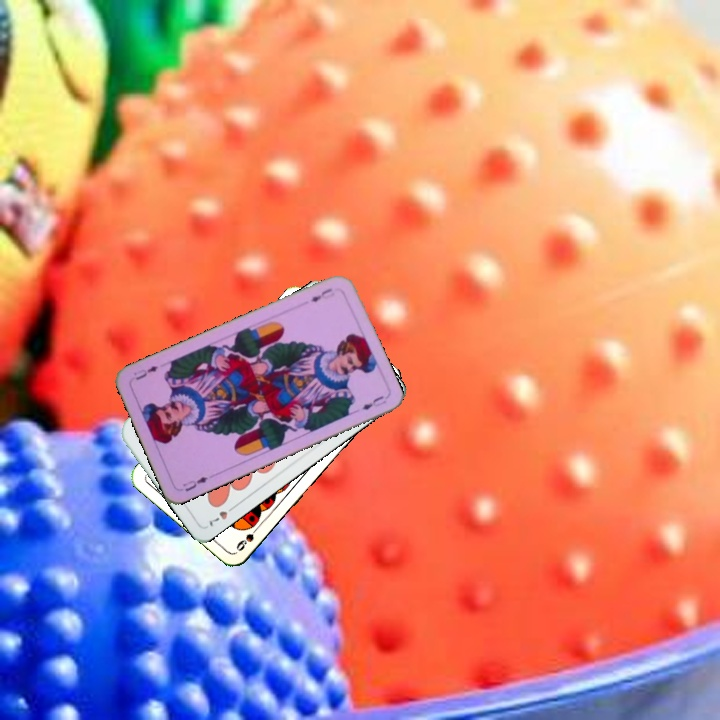EU: (179, 472, 211, 494), (306, 284, 338, 305)
H7: (205, 501, 239, 529)
S9: (232, 520, 264, 554)
